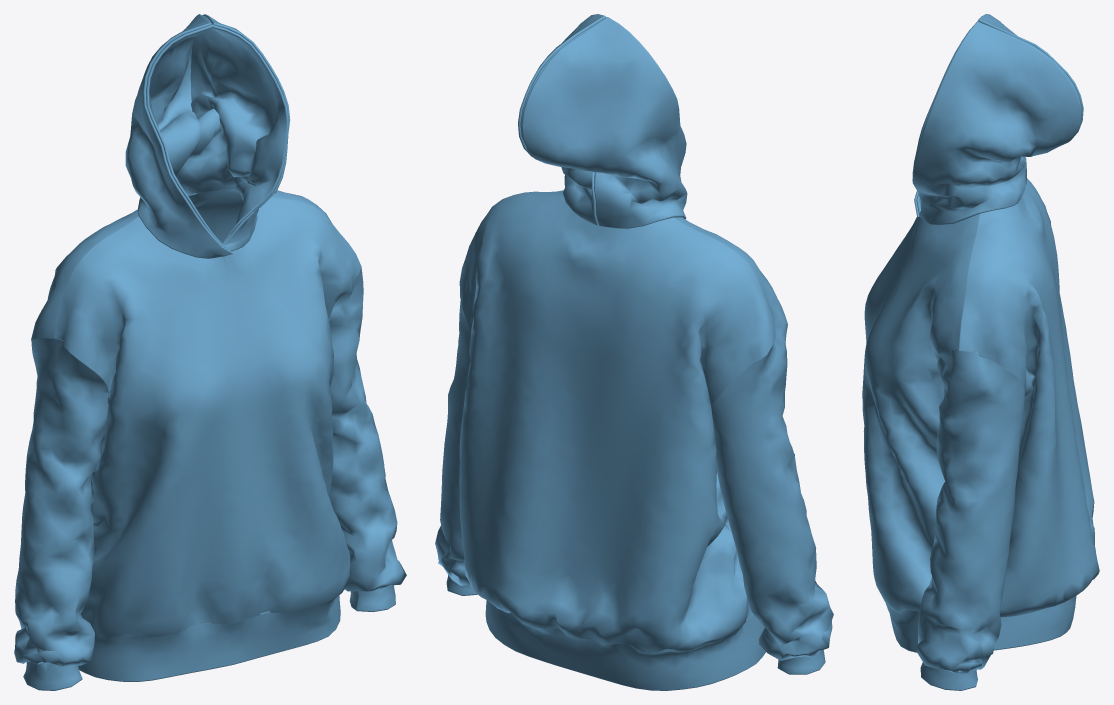
The picture shows the model from 3 angles, left to right: view 1: azimuth 30°, elevation 25°; view 2: azimuth 150°, elevation 25°; view 3: azimuth 270°, elevation 25°; orthographic projection. The views are drawn at different scales.
Visible parts, largest first — view 1: Pattern2D_96414, Pattern2D_94338, Pattern2D_3817911 (×2), Pattern2D_103204, Pattern2D_1315260 (×2), Pattern2D_3817910, Pattern2D_98031, Pattern2D_3742324, Pattern2D_3742323; view 2: Pattern2D_98031, Pattern2D_1315260, Pattern2D_94338, Pattern2D_3817910, Pattern2D_103204, Pattern2D_3817911, Pattern2D_96414, Pattern2D_3742324; view 3: Pattern2D_98031, Pattern2D_96414, Pattern2D_103204, Pattern2D_3817911, Pattern2D_3817910, Pattern2D_3742323, Pattern2D_1315260.
Boxes of the visible parts, bbox=[...] form: Pattern2D_96414: bbox=[54, 197, 361, 637]; Pattern2D_94338: bbox=[14, 338, 108, 666]; Pattern2D_3817911 (×2): bbox=[176, 14, 290, 252]; Pattern2D_103204: bbox=[329, 267, 406, 591]; Pattern2D_1315260 (×2): bbox=[125, 14, 233, 258]; Pattern2D_3817910: bbox=[78, 595, 340, 681]; Pattern2D_98031: bbox=[31, 189, 355, 506]; Pattern2D_3742324: bbox=[23, 661, 82, 690]; Pattern2D_3742323: bbox=[349, 585, 395, 611]; Pattern2D_98031: bbox=[459, 190, 775, 653]; Pattern2D_1315260: bbox=[521, 17, 687, 228]; Pattern2D_94338: bbox=[711, 324, 833, 660]; Pattern2D_3817910: bbox=[485, 600, 765, 690]; Pattern2D_103204: bbox=[435, 301, 470, 585]; Pattern2D_3817911: bbox=[518, 14, 606, 225]; Pattern2D_96414: bbox=[674, 217, 787, 618]; Pattern2D_3742324: bbox=[777, 650, 825, 674]; Pattern2D_98031: bbox=[959, 178, 1099, 617]; Pattern2D_96414: bbox=[862, 214, 979, 611]; Pattern2D_103204: bbox=[917, 349, 1025, 674]; Pattern2D_3817911: bbox=[912, 21, 1081, 224]; Pattern2D_3817910: bbox=[884, 595, 1076, 652]; Pattern2D_3742323: bbox=[920, 662, 977, 690]; Pattern2D_1315260: bbox=[914, 14, 1083, 216].
Bounding box in the file's own units: 59.16 × 90.01 × 32.43.
